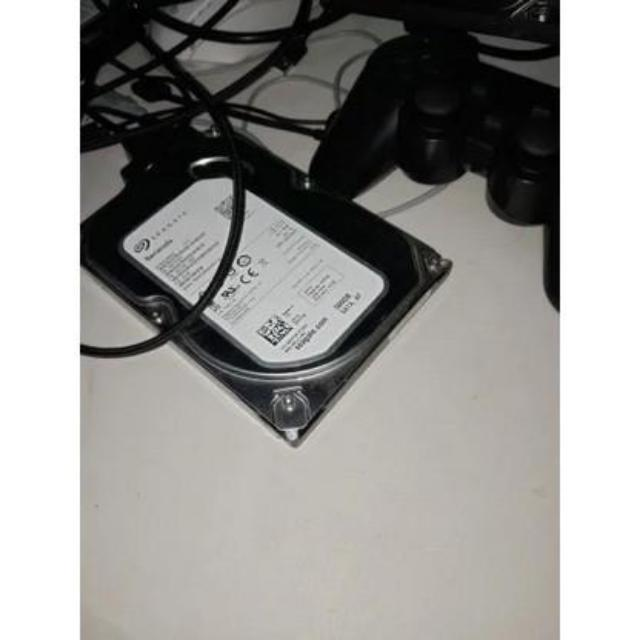DISK: (81, 124, 456, 453)
